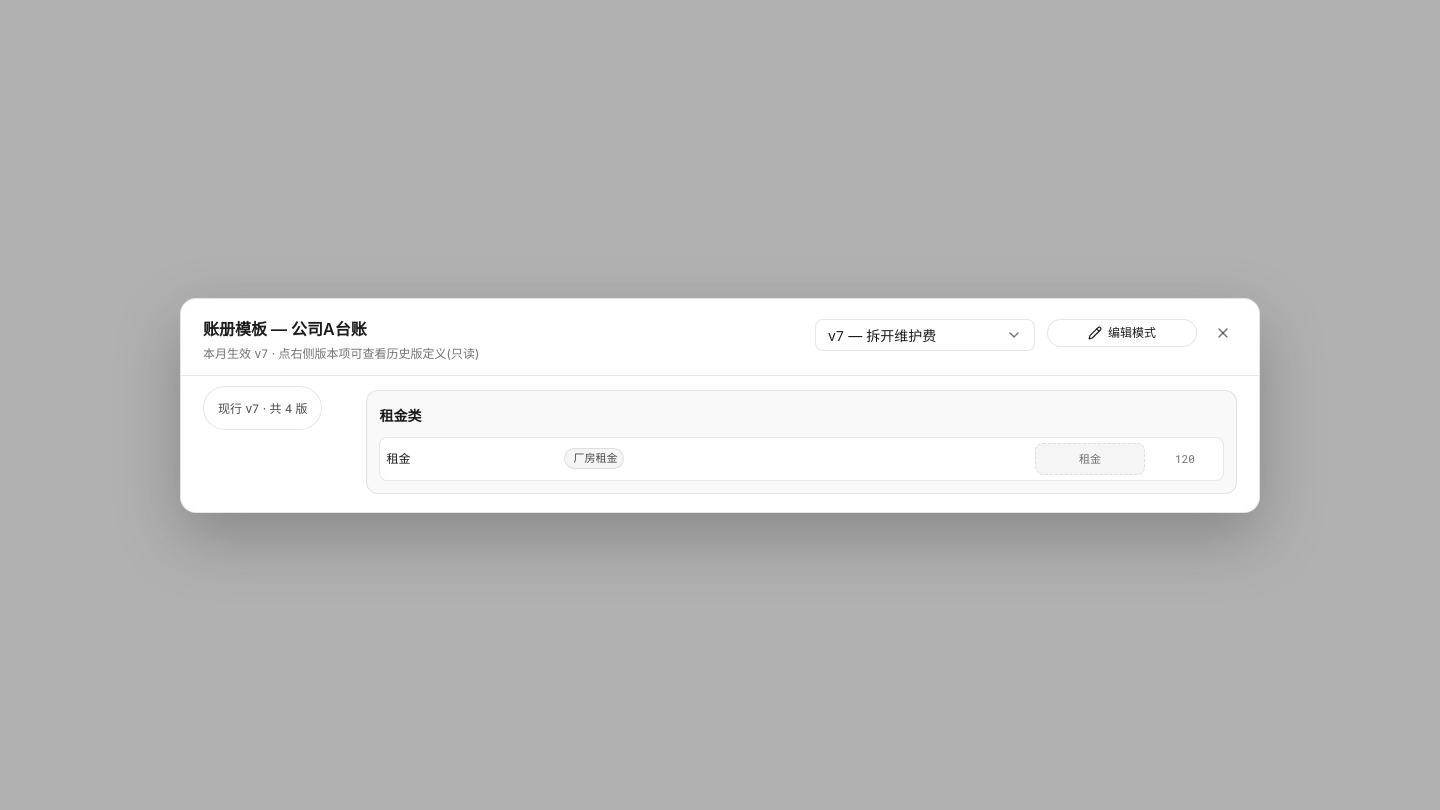
§5.6 第 2 类 · TemplateEditorPanel 版本链(有序 → 摘要 + 面板,不套 chips) › ❗S 档:面板里点一版 → 面板收起,主区进历史版预览
The width and height of the screenshot is (1440, 810).
Click the button with class "te-versum" at (263, 408), box top-left (203, 386), bottom-right (322, 430)
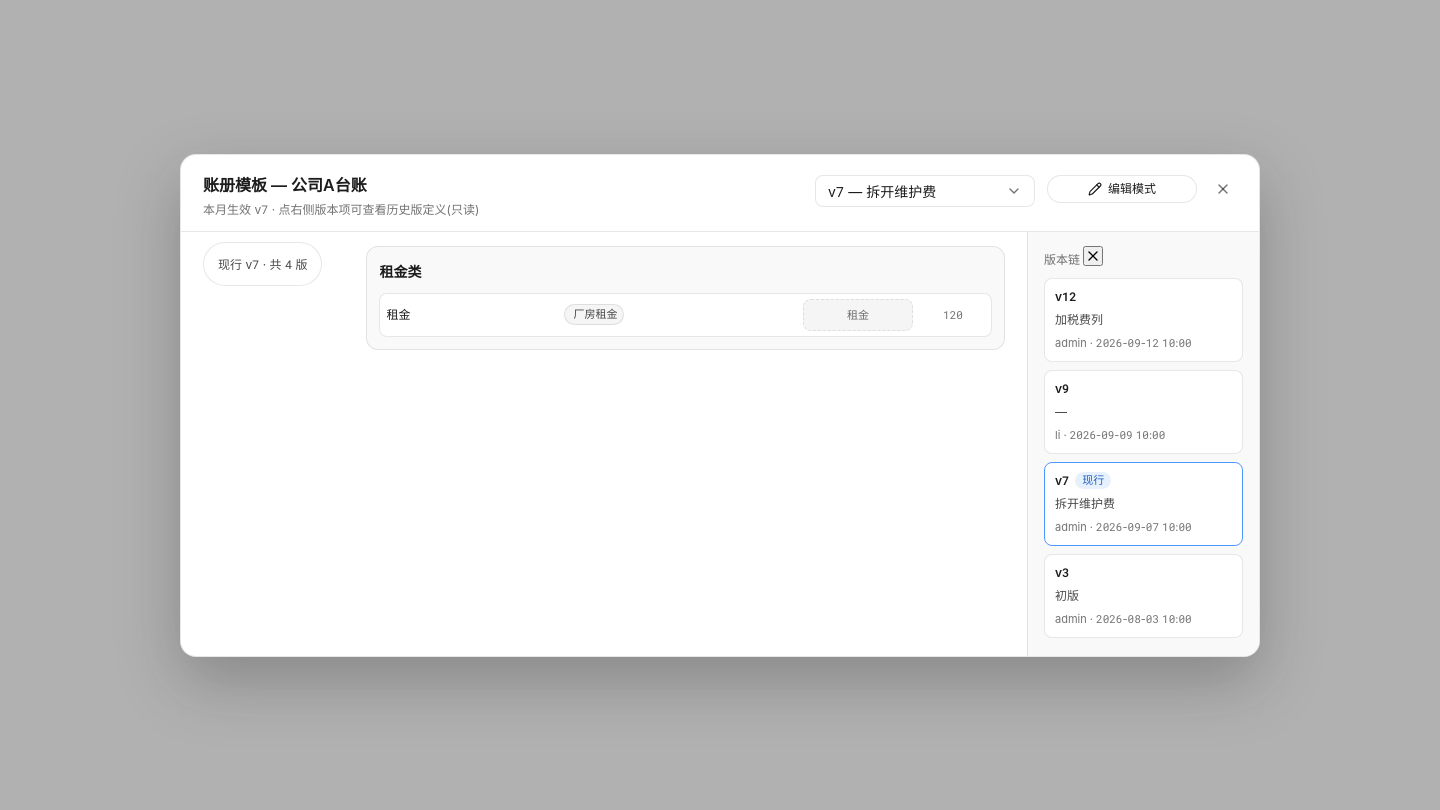
Click the element with class "te-vitem" showing "v3 初版 admin · 2026-08-03 10:00" at (1144, 596), box top-left (1044, 554), bottom-right (1243, 638)
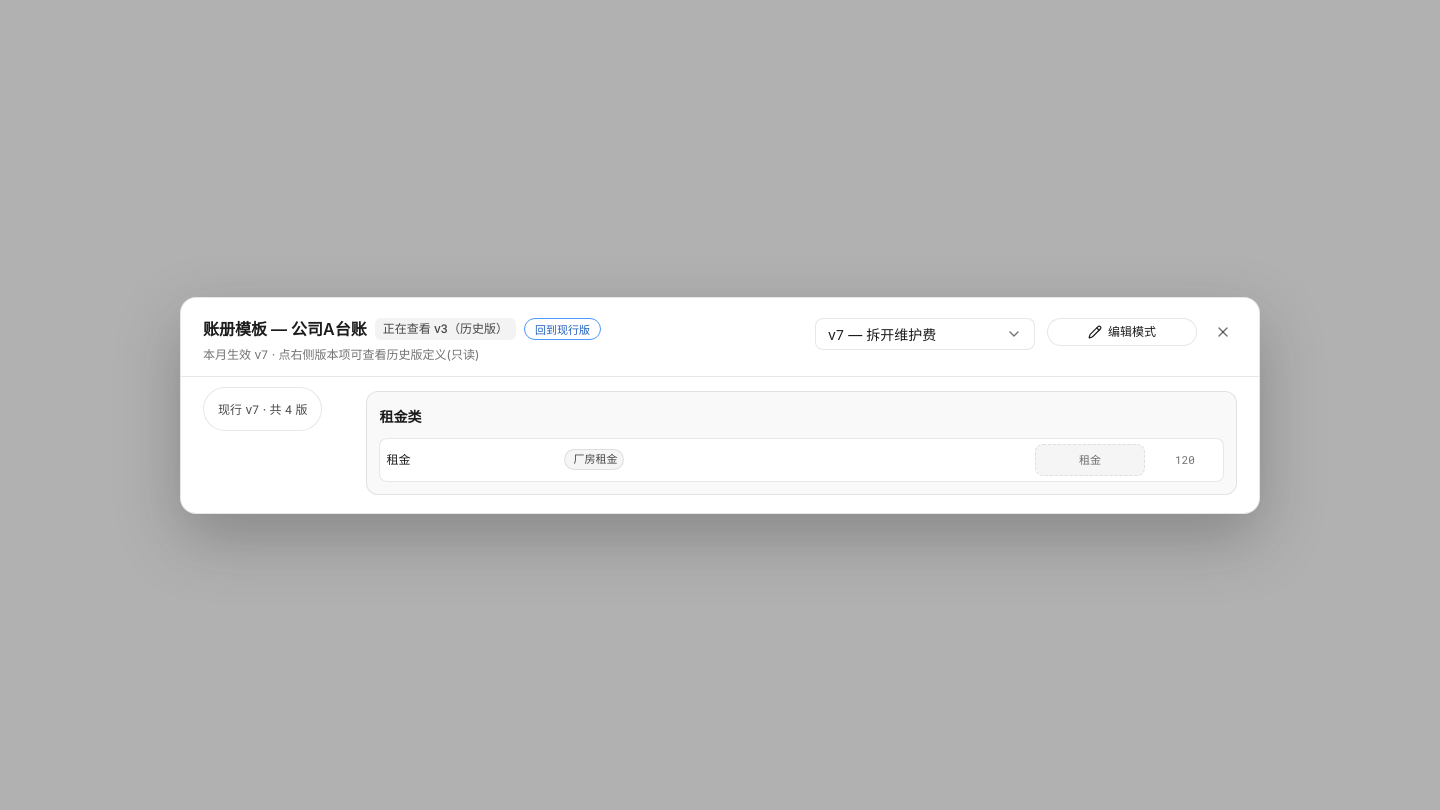
Expected: the text with class "fp-state" shows "正在查看 v3", top-left (383, 320), bottom-right (508, 336)
